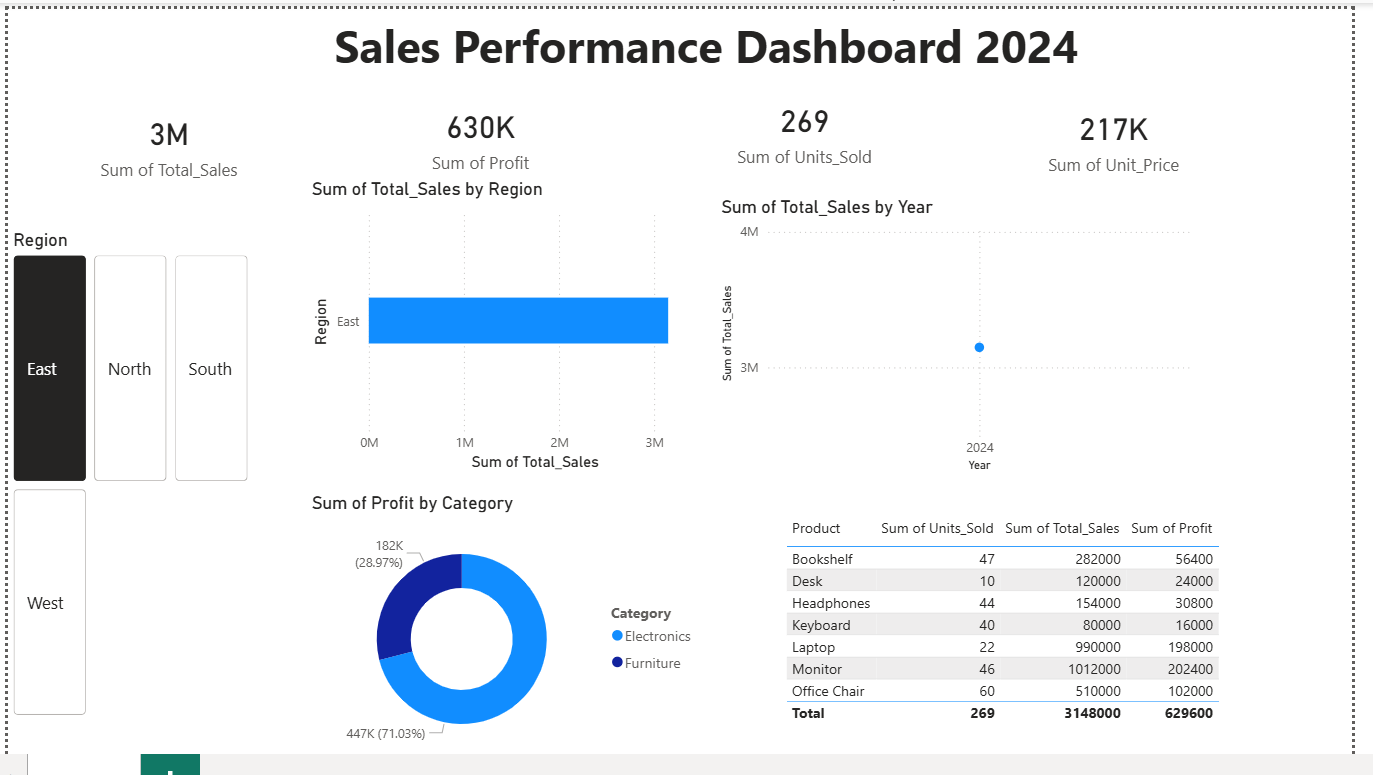

This screenshot's page, from the dashboard's own definition file:
{"tool":"powerbi","page":{"name":"Page 1","canvas":[1280,720],"ordinal":0},"visuals":[{"type":"card","fields":{"Values":["Sum(sales_data.Total_Sales)"]},"box":[0,64,306,128],"z":0},{"type":"card","fields":{"Values":["Sum(sales_data.Profit)"]},"box":[306,50,288,142],"z":1000},{"type":"card","fields":{"Values":["Sum(sales_data.Units_Sold)"]},"box":[594,52,328,128],"z":2000},{"type":"card","fields":{"Values":["Sum(sales_data.Unit_Price)"]},"box":[898,54,308,138],"z":3000},{"type":"clusteredBarChart","fields":{"Category":["sales_data.Region"],"Y":["Sum(sales_data.Total_Sales)"]},"box":[284,162,390,282],"z":4000},{"type":"lineChart","fields":{"Category":["sales_data.Date.Variation.Date Hierarchy.Year","sales_data.Date.Variation.Date Hierarchy.Quarter","sales_data.Date.Variation.Date Hierarchy.Month","sales_data.Date.Variation.Date Hierarchy.Day"],"Y":["Sum(sales_data.Total_Sales)"]},"box":[674,178,456,266],"z":5000},{"type":"donutChart","fields":{"Category":["sales_data.Category"],"Y":["Sum(sales_data.Profit)"]},"box":[284,460,380,260],"z":6000},{"type":"tableEx","fields":{"Values":["sales_data.Product","Sum(sales_data.Units_Sold)","Sum(sales_data.Total_Sales)","Sum(sales_data.Profit)"]},"box":[736,478,434,242],"z":7000},{"type":"advancedSlicerVisual","fields":{"Values":["sales_data.Region"]},"box":[0,210,234,468],"z":8000},{"type":"textbox","box":[306,0,940,78],"z":9000}]}

Visuals, with their boxes in screenshot pixels (x1, y1, x2, y2), scaled from the page's 1280x720 canvas onto the 1373x775 screenshot:
card - Sum(sales_data.Total_Sales): Rect(0, 69, 328, 207)
card - Sum(sales_data.Profit): Rect(328, 54, 637, 207)
card - Sum(sales_data.Units_Sold): Rect(637, 56, 989, 194)
card - Sum(sales_data.Unit_Price): Rect(963, 58, 1294, 207)
clusteredBarChart - sales_data.Region x Sum(sales_data.Total_Sales): Rect(305, 174, 723, 478)
lineChart - sales_data.Date.Variation.Date Hierarchy.Year x sales_data.Date.Variation.Date Hierarchy.Quarter: Rect(723, 192, 1212, 478)
donutChart - sales_data.Category x Sum(sales_data.Profit): Rect(305, 495, 712, 774)
tableEx - sales_data.Product x Sum(sales_data.Units_Sold): Rect(789, 515, 1255, 774)
advancedSlicerVisual - sales_data.Region: Rect(0, 226, 251, 730)
textbox: Rect(328, 0, 1337, 84)
